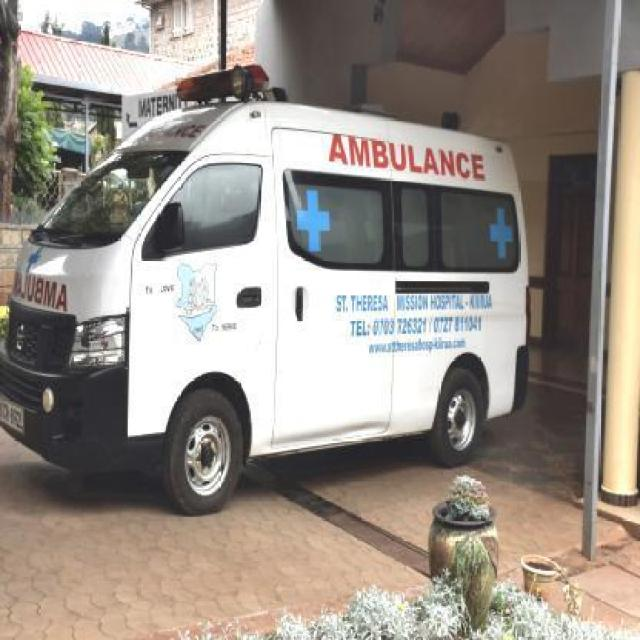Ambulance: (12, 37, 544, 507)
